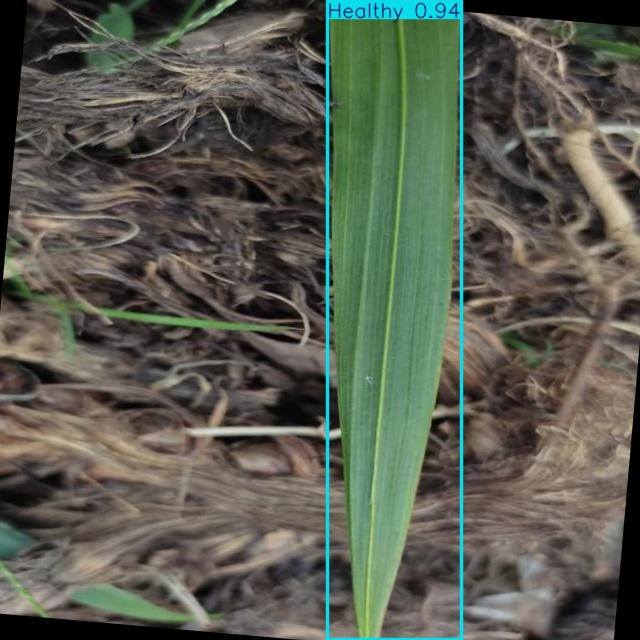Healthy: (328, 0, 461, 640)
